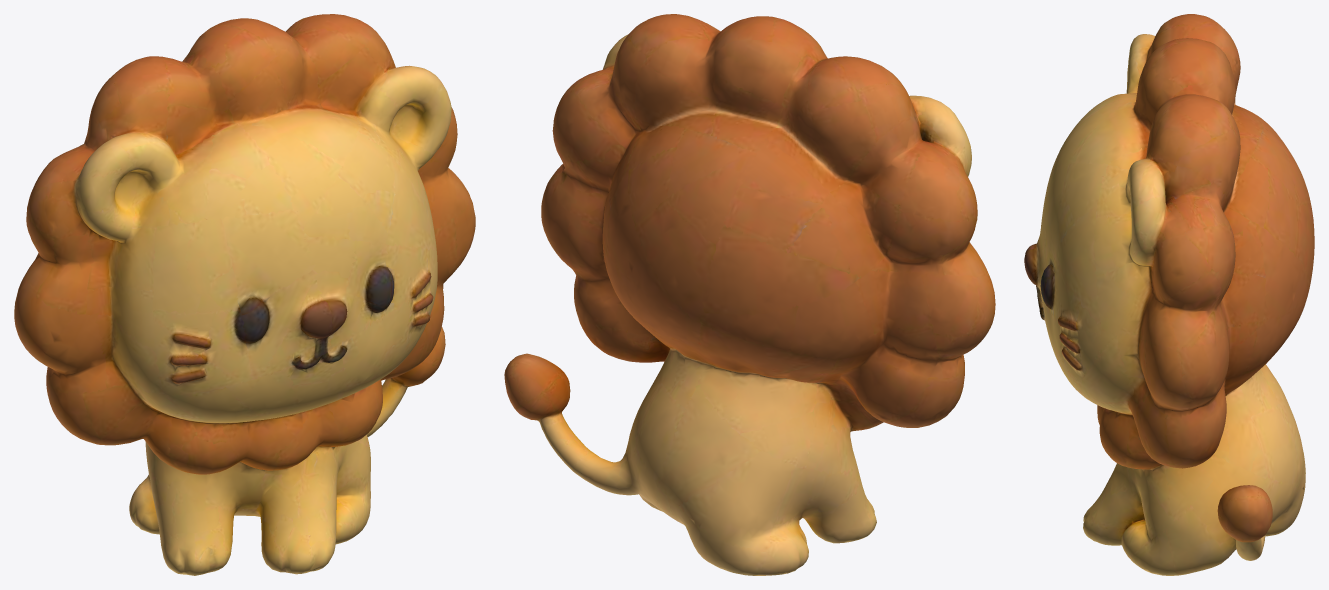
3 views of the same model, side by side, from view 1: azimuth 30°, elevation 25°; view 2: azimuth 150°, elevation 25°; view 3: azimuth 270°, elevation 25° (orthographic). The views are drawn at different scales.
Size of the model in its own units: 1.77 by 1.9 by 1.04.
Materials: 1 (1 with a texture image).
